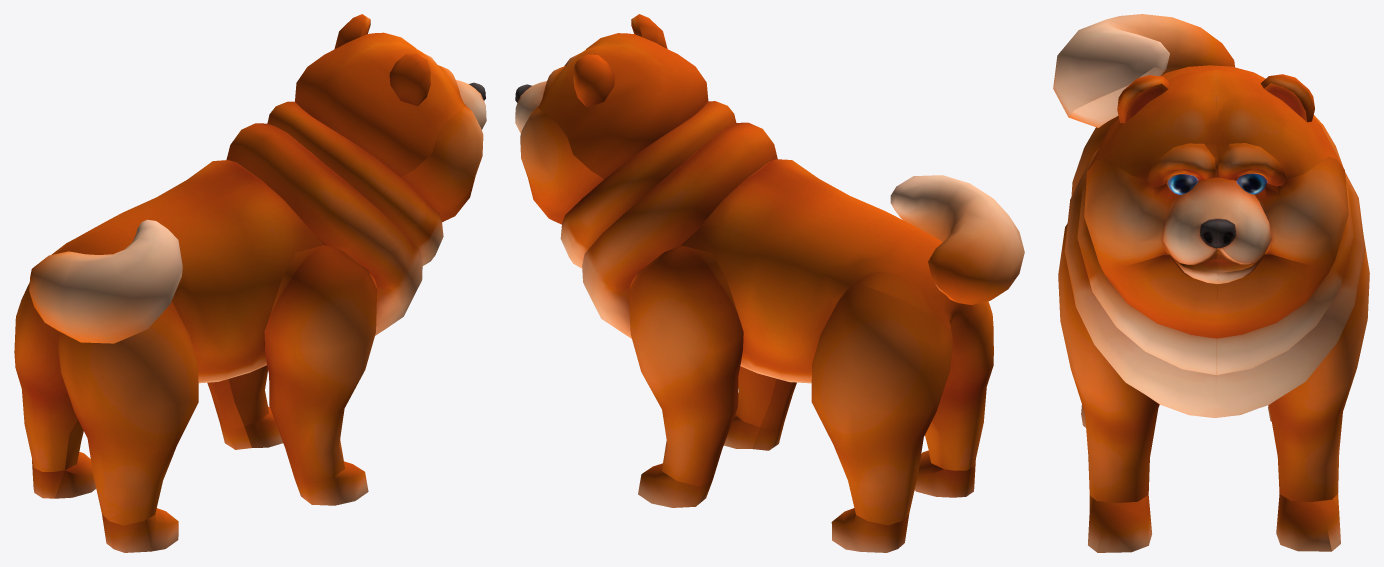
Rendered from RedDog.obj.
3 renders of one model, left to right at view 1: azimuth 30°, elevation 25°; view 2: azimuth 150°, elevation 25°; view 3: azimuth 270°, elevation 25°, orthographic. The views are drawn at different scales.
Visible parts, largest first — view 1: Group24122; view 2: Group24122; view 3: Group24122.
Part boxes in pixels (box(x1,y1,x2,y2)): Group24122: box(14, 14, 486, 552); Group24122: box(515, 14, 1024, 552); Group24122: box(1053, 14, 1369, 552).
Size of the model in its own units: 0.7936 by 0.6623 by 0.3635.
1 material, 1 textured.
